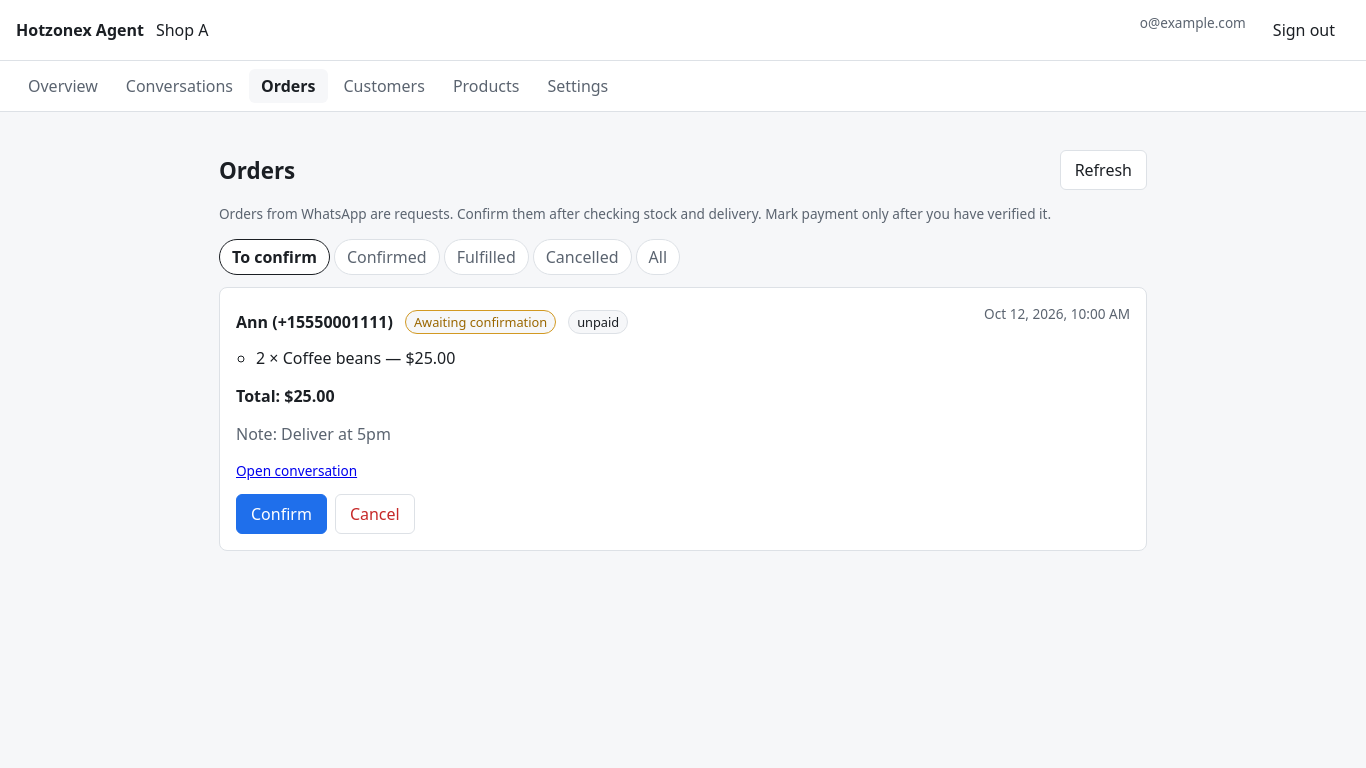
Test: orders › shows server errors such as insufficient stock
This screenshot has width=1366, height=768.
Click the button "Confirm".
click(281, 514)  # box 236,494 -> 327,534
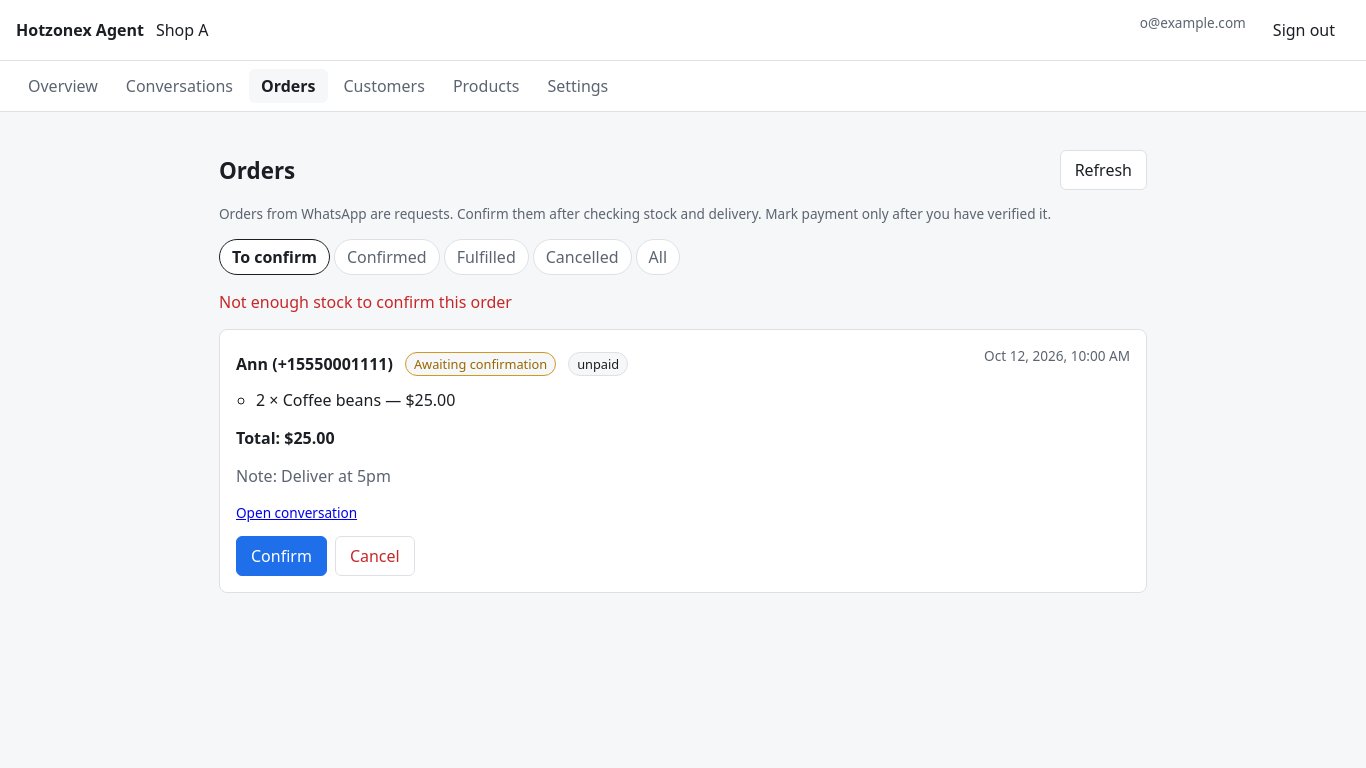
Now the message shows "Not enough stock", box 219,291 -> 512,313
